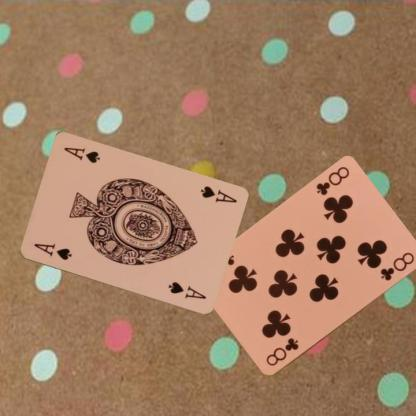8c: (262, 335, 300, 368), (313, 164, 351, 197)
As: (30, 241, 72, 262), (198, 183, 238, 205)
